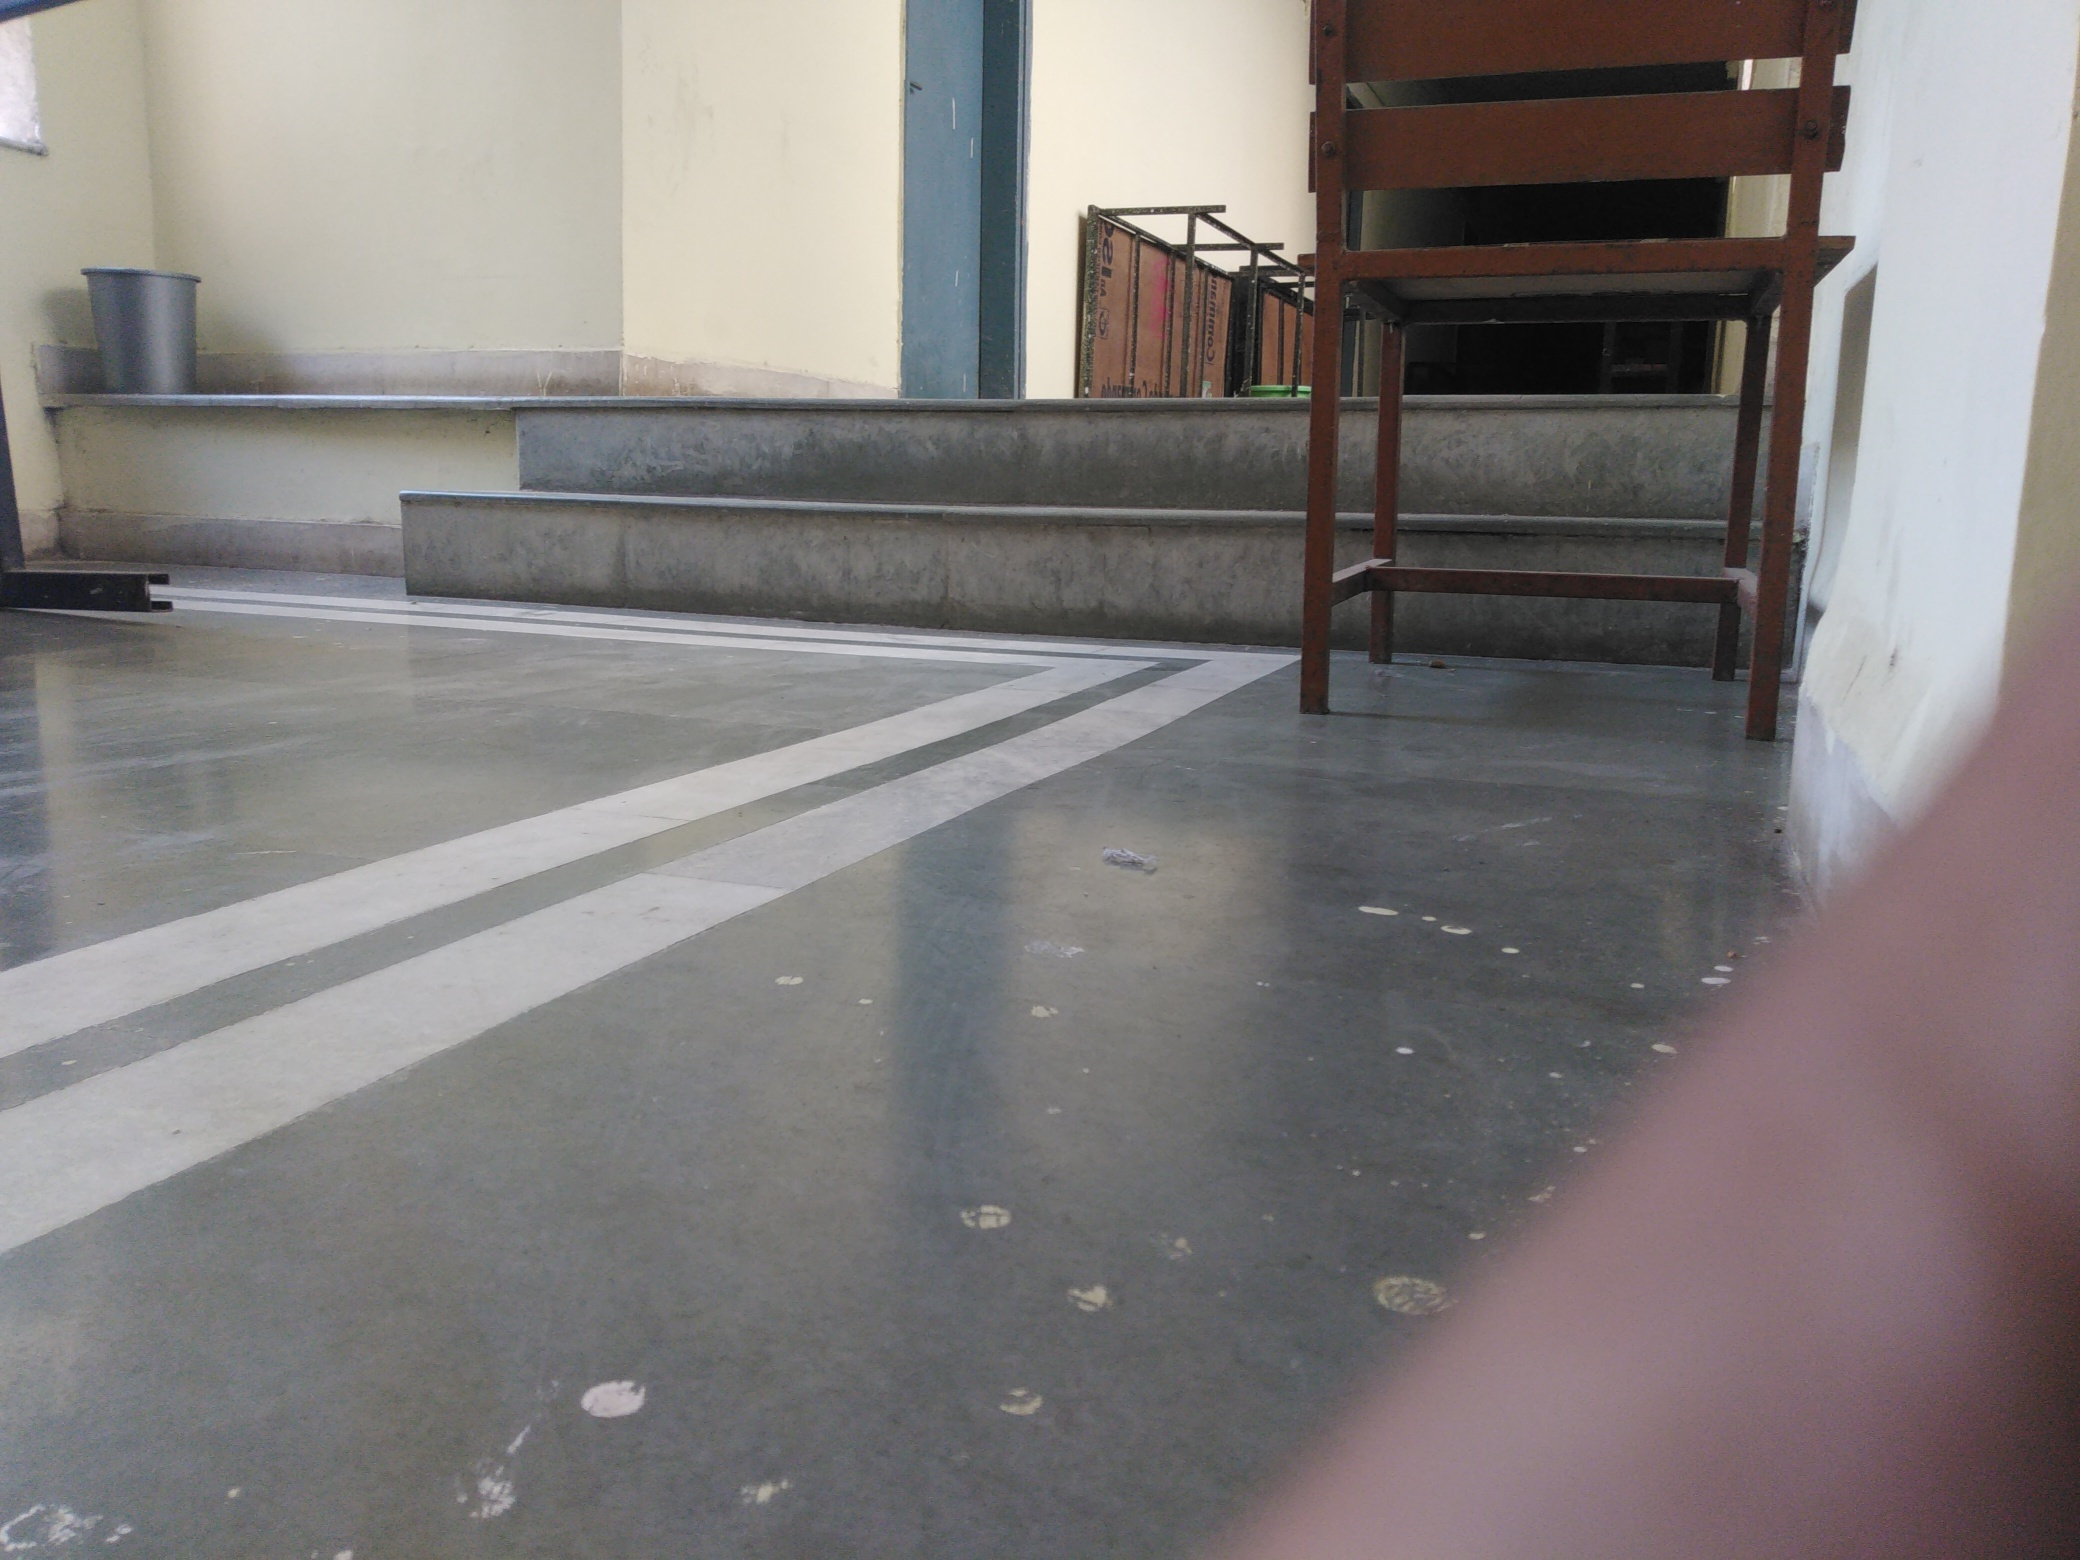stairs_up: (388, 379, 1299, 660)
